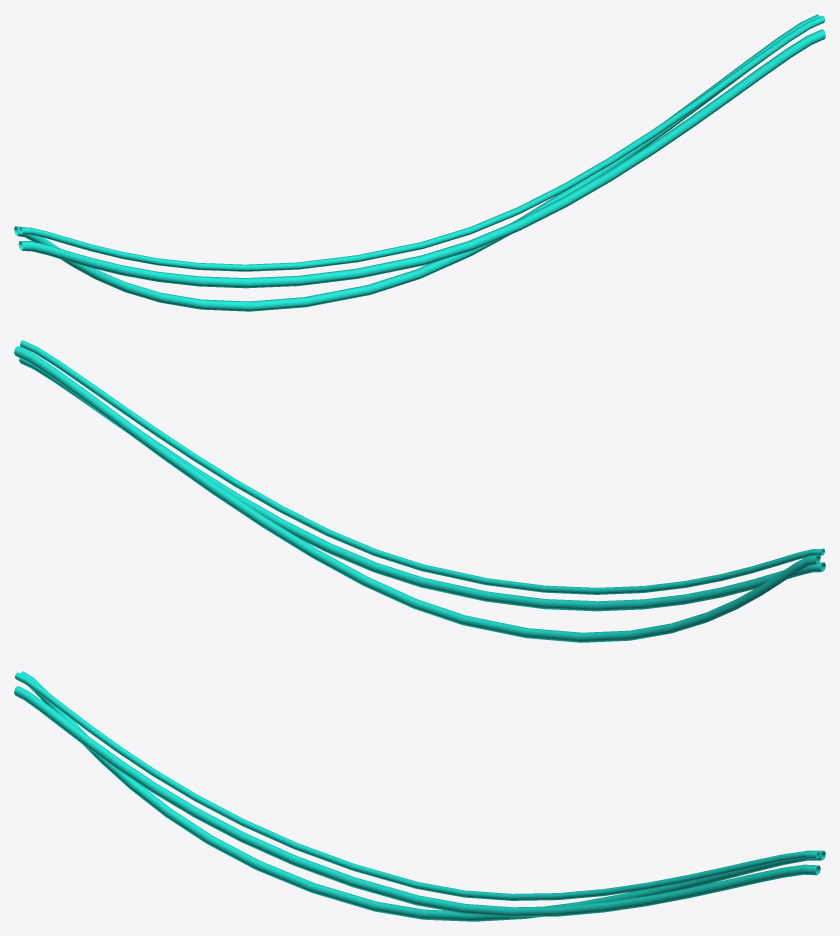
File: Cables_Large.fbx
3 renders of one model, top to bottom at view 1: azimuth 30°, elevation 25°; view 2: azimuth 150°, elevation 25°; view 3: azimuth 330°, elevation 25°, orthographic.
Parts seen in each view (by area): view 1: Cables_Large; view 2: Cables_Large; view 3: Cables_Large.
Part boxes in pixels (x1,y1,x2,y2): Cables_Large: (14, 14, 825, 311); Cables_Large: (14, 340, 825, 642); Cables_Large: (14, 671, 825, 921).
Size of the model in its own units: 1802 by 367 by 47.65.
